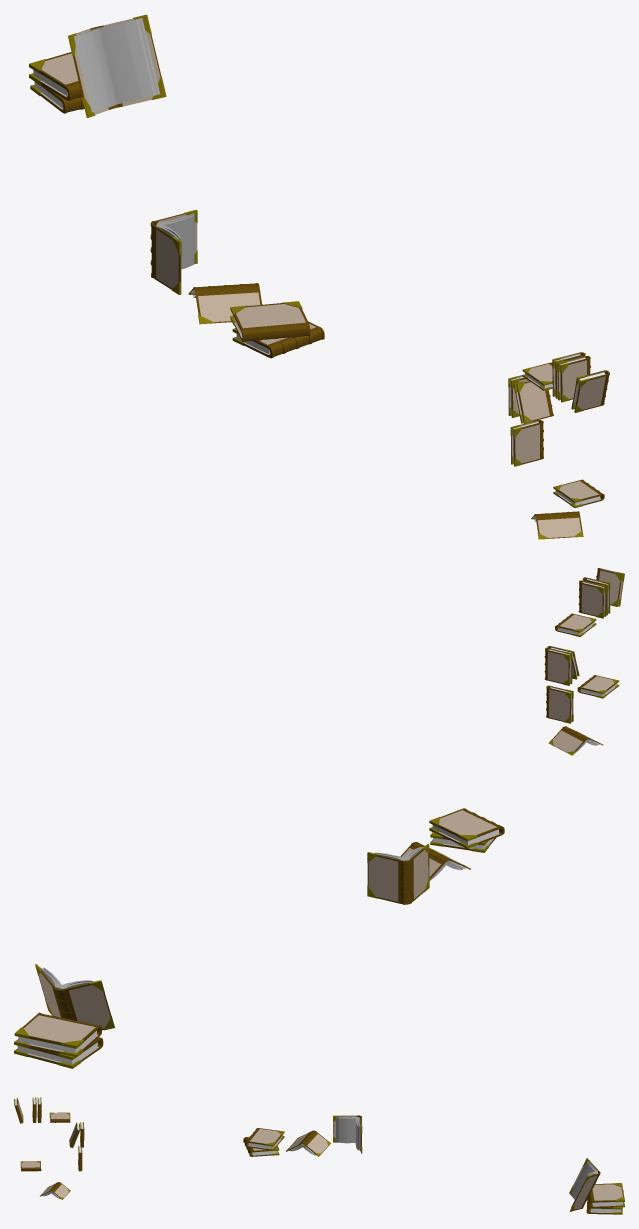
The model's file is Books.fbx.
3 renders of one model, top to bottom at view 1: azimuth 30°, elevation 25°; view 2: azimuth 150°, elevation 25°; view 3: azimuth 270°, elevation 25°, orthographic. The views are drawn at different scales.
Parts seen in each view (by area): view 1: BookOpenVariant_pasted__pCube3 (×2), BookOpen02, Book_Closed2, Book_Closed, Book_Closed9, Book_Closed8, Book_Closed3, BookOpenVariant_pasted__pCube4, Book_Closed11, Book_Closed10, Book_Closed4; view 2: BookOpenVariant_pasted__pCube3 (×2), BookOpen02, Book_Closed, Book_Closed2, Book_Closed1, Book_Closed9, Book_Closed7, Book_Closed6, BookOpenVariant_pasted__pCube4; view 3: BookOpenVariant_pasted__pCube3 (×2), BookOpen02, Book_Closed, Book_Closed2, BookOpenVariant_pasted__pCube4, Book_Closed1, Book_Closed3, Book_Closed5, Book_Closed4.
Boxes of the visible parts, x1,y1,x2,y2 form: BookOpenVariant_pasted__pCube3 (×2): (68, 14, 262, 324); BookOpen02: (150, 209, 197, 294); Book_Closed2: (230, 301, 310, 341); Book_Closed: (29, 52, 81, 100); Book_Closed9: (510, 420, 543, 466); Book_Closed8: (513, 380, 553, 423); Book_Closed3: (232, 321, 324, 358); BookOpenVariant_pasted__pCube4: (531, 511, 583, 539); Book_Closed11: (571, 370, 609, 412); Book_Closed10: (557, 356, 590, 402); Book_Closed4: (553, 479, 604, 507); BookOpenVariant_pasted__pCube3 (×2): (35, 842, 470, 1030); BookOpen02: (367, 844, 429, 904); Book_Closed: (14, 1012, 101, 1057); Book_Closed2: (429, 808, 504, 848); Book_Closed1: (14, 1037, 103, 1068); Book_Closed9: (546, 685, 573, 723); Book_Closed7: (544, 647, 572, 685); Book_Closed6: (578, 580, 606, 618); BookOpenVariant_pasted__pCube4: (548, 726, 603, 755); BookOpenVariant_pasted__pCube3 (×2): (286, 1130, 600, 1211); BookOpen02: (333, 1115, 362, 1153); Book_Closed: (587, 1183, 624, 1207); Book_Closed2: (245, 1128, 284, 1150); BookOpenVariant_pasted__pCube4: (40, 1182, 70, 1199); Book_Closed1: (586, 1190, 623, 1214); Book_Closed3: (243, 1136, 279, 1156); Book_Closed5: (49, 1112, 70, 1122); Book_Closed4: (20, 1161, 41, 1171).
Size of the model in its own units: 8.78 by 6.45 by 38.76.
